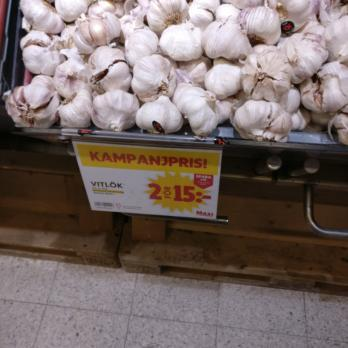Garlic: (18, 0, 344, 134)
